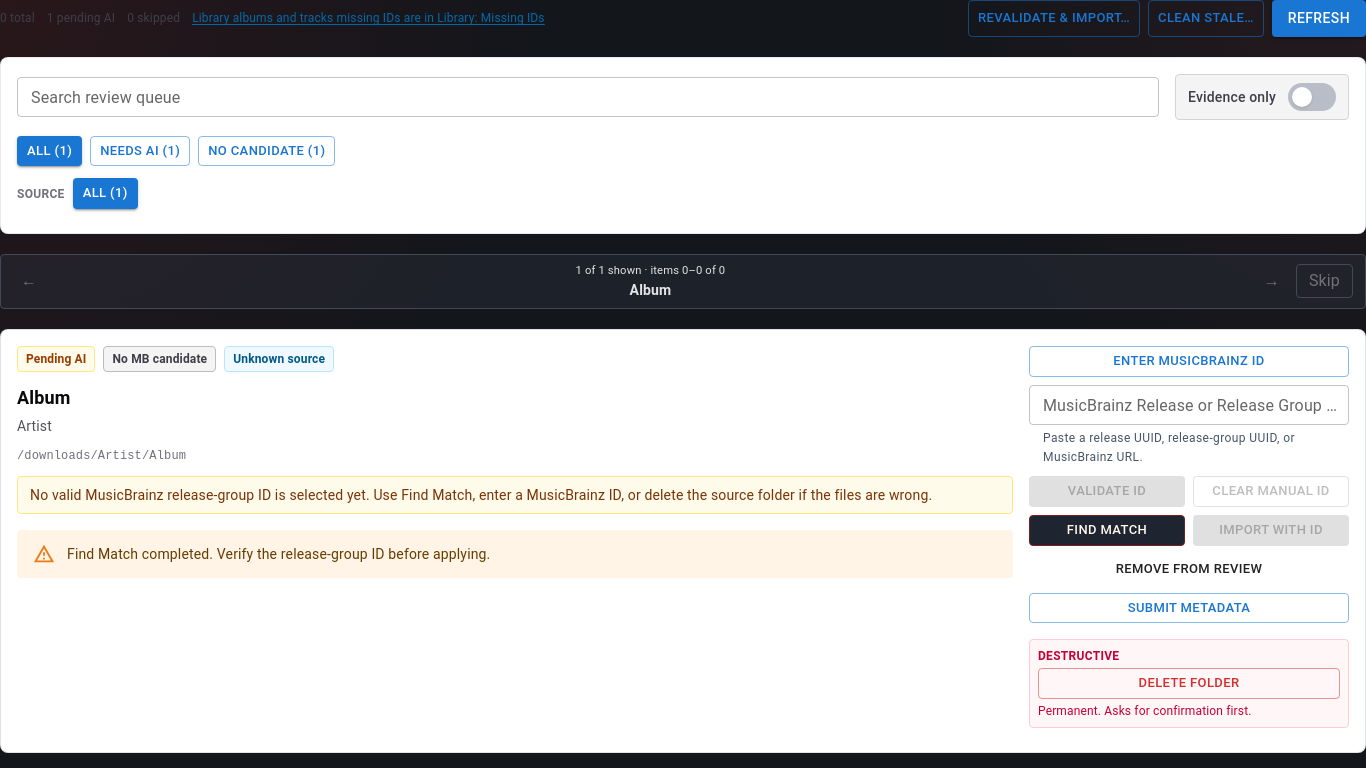
Scenario: Import Review: Delete Folder success message › shows the real file count after a confirmed delete
This screenshot has width=1366, height=768.
Click the button "Delete Folder" at [1189, 684], box [1038,668,1340,699]
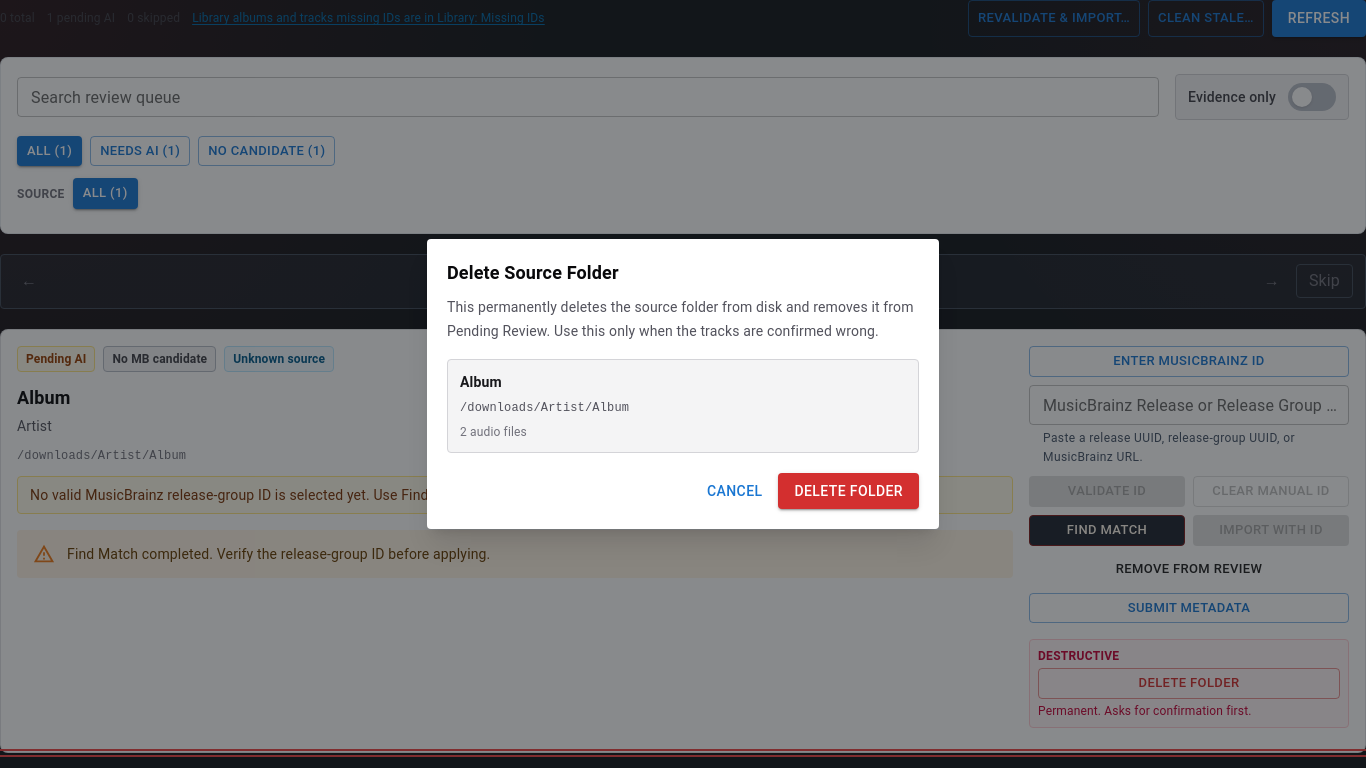
Click the button "Delete Folder" at [849, 491], box [778,473,919,509]
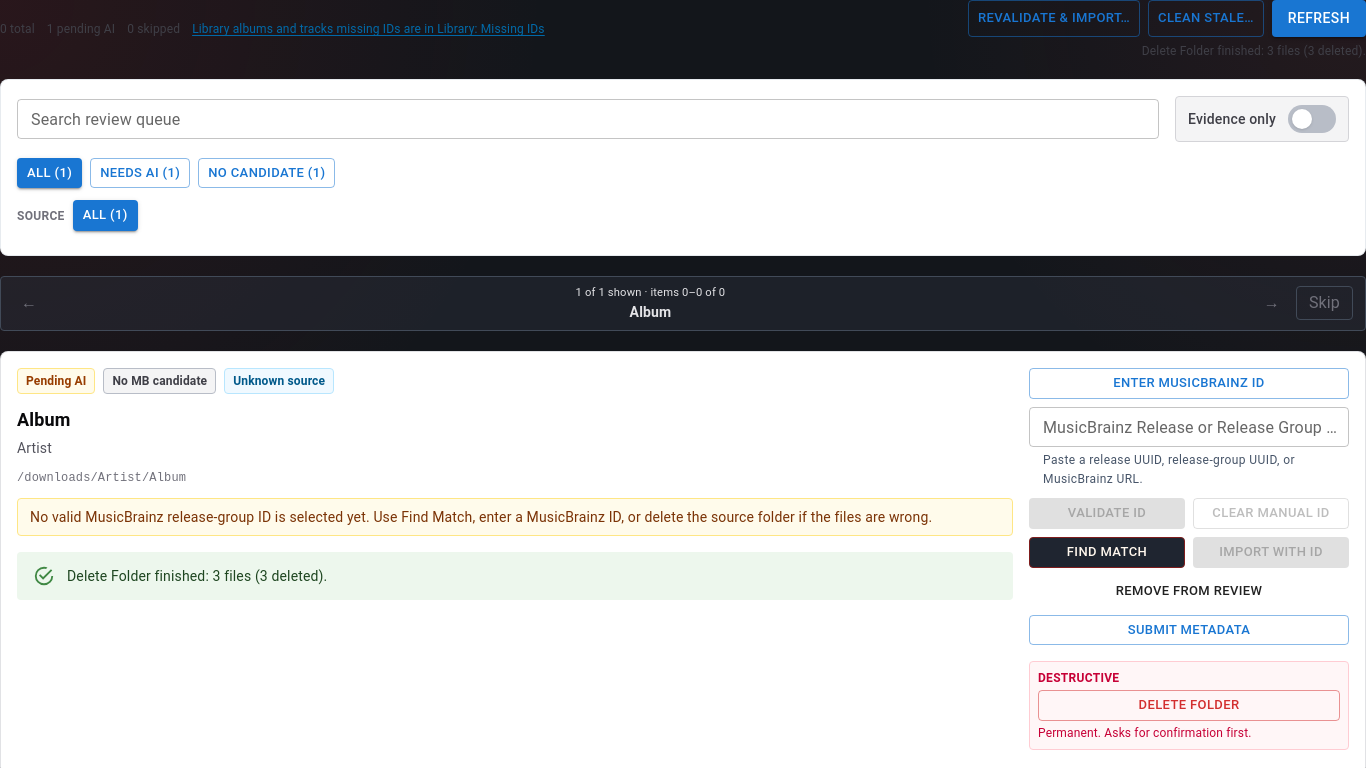
Expected: the 1st message "Delete Folder finished: 3 files (3 deleted)." is shown, [1142,42,1365,58]
